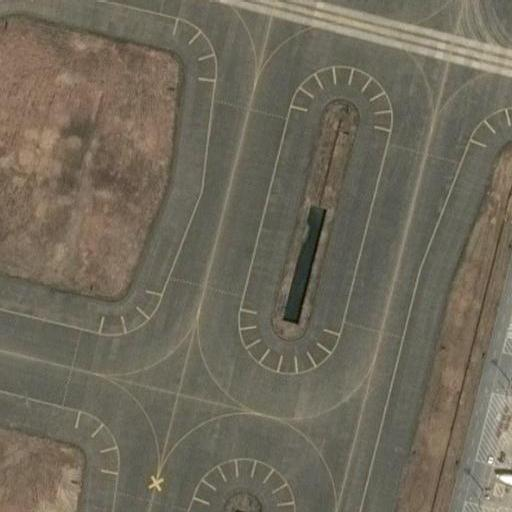Aircraft: (492, 440, 512, 512)
